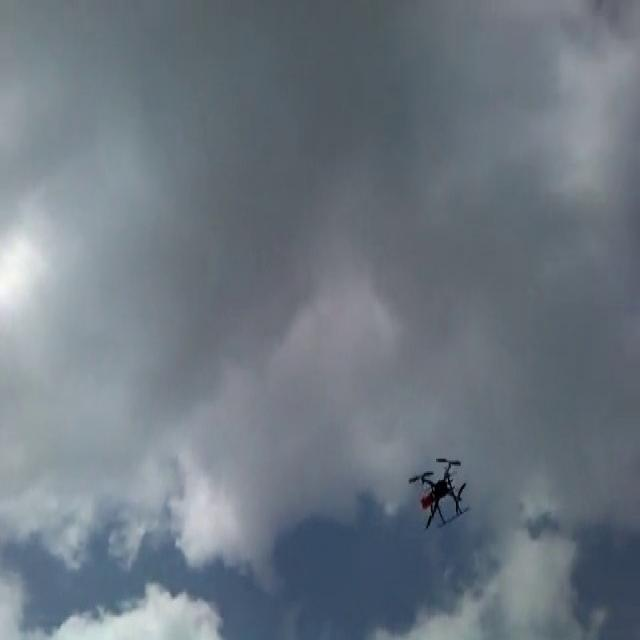drone: (399, 449, 474, 538)
